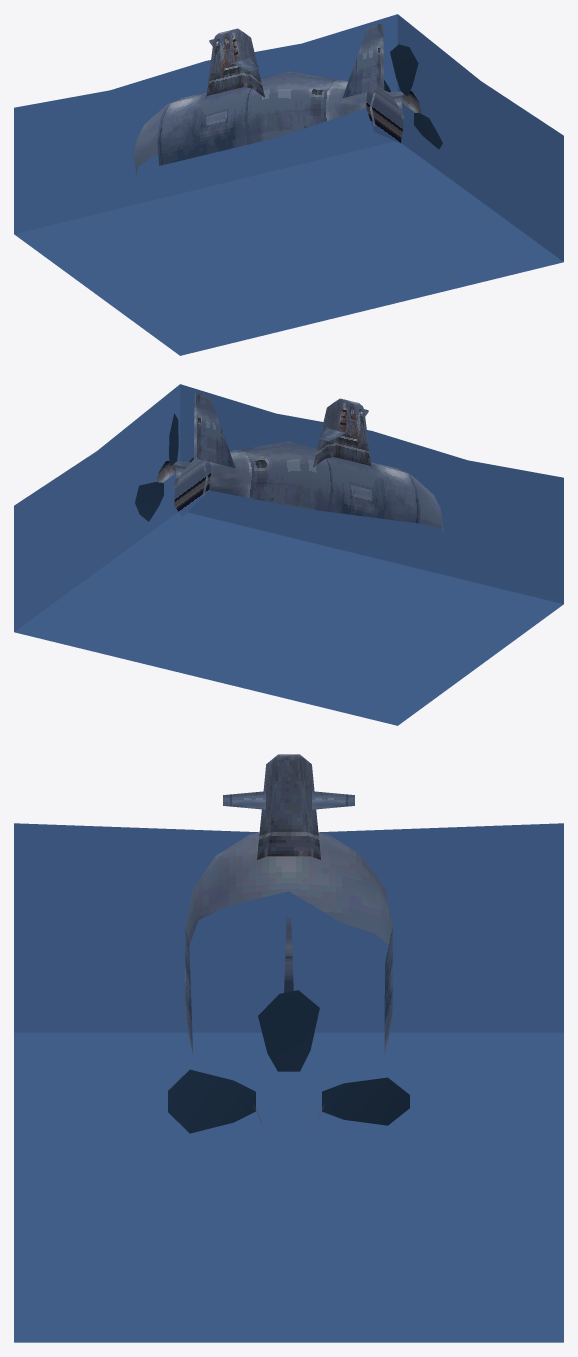
Rendered from ps2_save-icons_subrebellion.glb.
3 renders of one model, top to bottom at view 1: azimuth 30°, elevation 25°; view 2: azimuth 150°, elevation 25°; view 3: azimuth 270°, elevation 25°, orthographic. The views are drawn at different scales.
Parts seen in each view (by area): view 1: ICON1.ICO; view 2: ICON1.ICO; view 3: ICON1.ICO.
Part boxes in pixels (x1,y1,x2,y2): ICON1.ICO: [14, 14, 563, 355]; ICON1.ICO: [14, 384, 563, 725]; ICON1.ICO: [14, 754, 563, 1342].
Bounding box in the file's own units: 5 × 2.85 × 3.75.
Materials: 1 (1 with a texture image).
